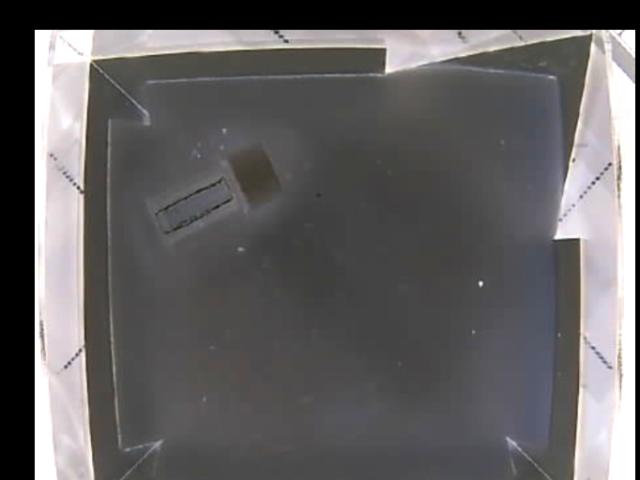Bottle: (143, 140, 281, 247)
